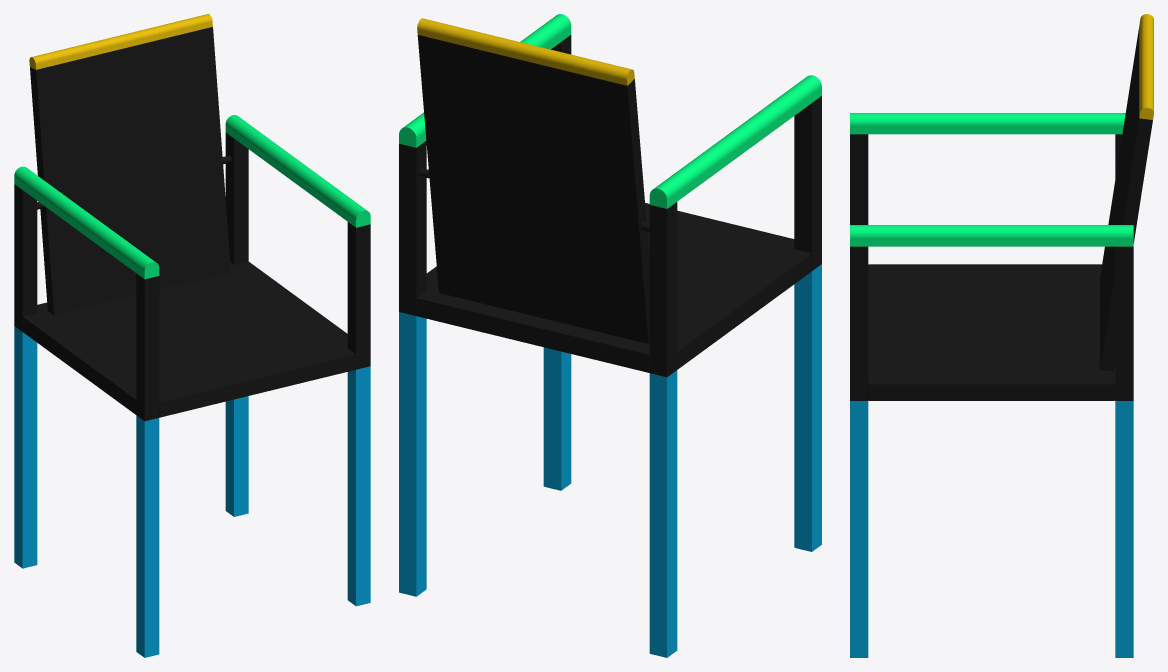
The model's file is ArtDecoChair_Placeholder.glb.
The picture shows the model from 3 angles, left to right: view 1: azimuth 30°, elevation 25°; view 2: azimuth 150°, elevation 25°; view 3: azimuth 270°, elevation 25°; orthographic projection. The views are drawn at different scales.
Parts seen in each view (by area): view 1: Cube.010, Cube.009, Cube.005, Cube.008, Cube.004, Cylinder.002, Cylinder.001, Cube.006, Cube.007, Cube.003, Cube.001, Cube.002 (+1 smaller); view 2: Cube.010, Cube.009, Cube.004, Cube.001, Cube.005, Cylinder.001, Cube.003, Cube.002, Cube.006, Cube.008, Cylinder.003, Cylinder.002; view 3: Cube.009, Cylinder.002, Cylinder.001, Cube.010, Cube.001, Cube.008, Cube.002, Cube.007, Cube.006, Cylinder.003.
Boxes of the visible parts, x1,y1,x2,y2 form: Cube.010: (30, 27, 230, 315); Cube.009: (23, 261, 355, 417); Cube.005: (136, 415, 159, 657); Cube.008: (347, 366, 370, 606); Cube.004: (14, 326, 37, 568); Cylinder.002: (225, 115, 370, 227); Cylinder.001: (14, 166, 159, 279); Cube.006: (136, 273, 159, 421); Cube.007: (347, 222, 370, 369); Cube.003: (14, 184, 37, 331); Cube.001: (225, 396, 248, 516); Cube.002: (225, 132, 248, 264); Cube.010: (417, 35, 649, 343); Cube.009: (416, 203, 811, 372); Cube.004: (649, 370, 677, 657); Cube.001: (399, 312, 426, 596); Cube.005: (794, 264, 821, 551); Cylinder.001: (649, 75, 821, 208); Cube.003: (649, 202, 677, 377); Cube.002: (399, 141, 426, 316); Cube.006: (794, 96, 821, 270); Cube.008: (543, 347, 571, 490); Cylinder.003: (417, 18, 634, 85); Cylinder.002: (399, 14, 571, 147); Cube.009: (868, 264, 1115, 400); Cylinder.002: (850, 225, 1133, 246); Cylinder.001: (850, 113, 1125, 134); Cube.010: (1100, 27, 1152, 370); Cube.001: (1115, 401, 1133, 657); Cube.008: (850, 401, 868, 657); Cube.002: (1115, 246, 1133, 400); Cube.007: (850, 246, 868, 400); Cube.006: (850, 134, 868, 224); Cylinder.003: (1139, 14, 1153, 119).
Size of the model in its own units: 2 by 4.18 by 2.14.
